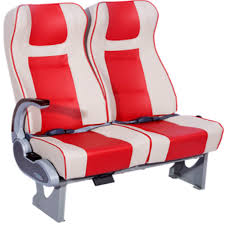seat: (11, 9, 224, 170)
